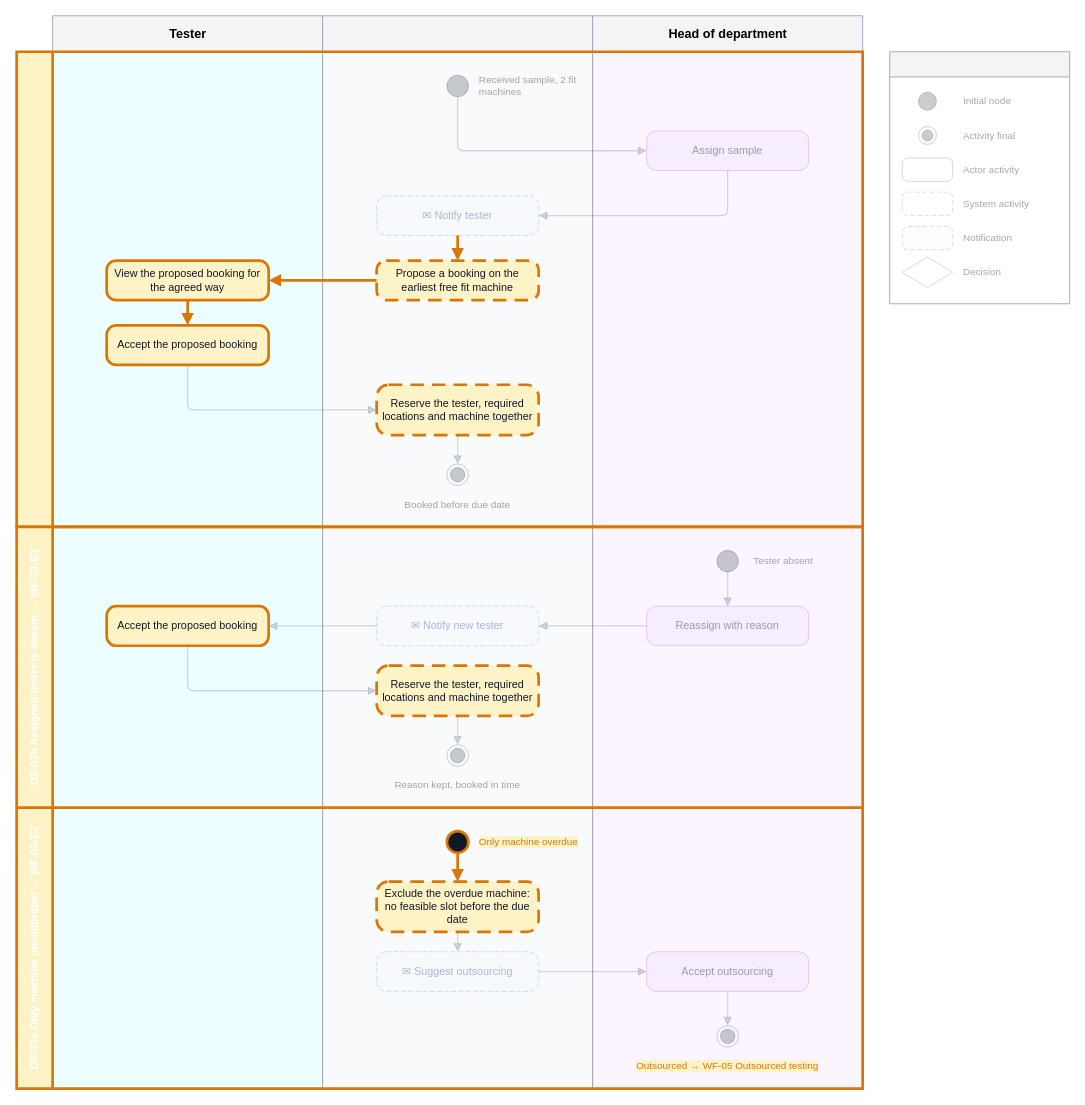
Image size: 1085x1105. Some labels were removed from this diagram. Each missing label, with the box of its shape:
DS-03a Booking on the earliest free fit machine ↔ WF-03 main path: (15, 50, 864, 528)
Legend: (889, 51, 1070, 304)
System: (322, 15, 593, 1089)
